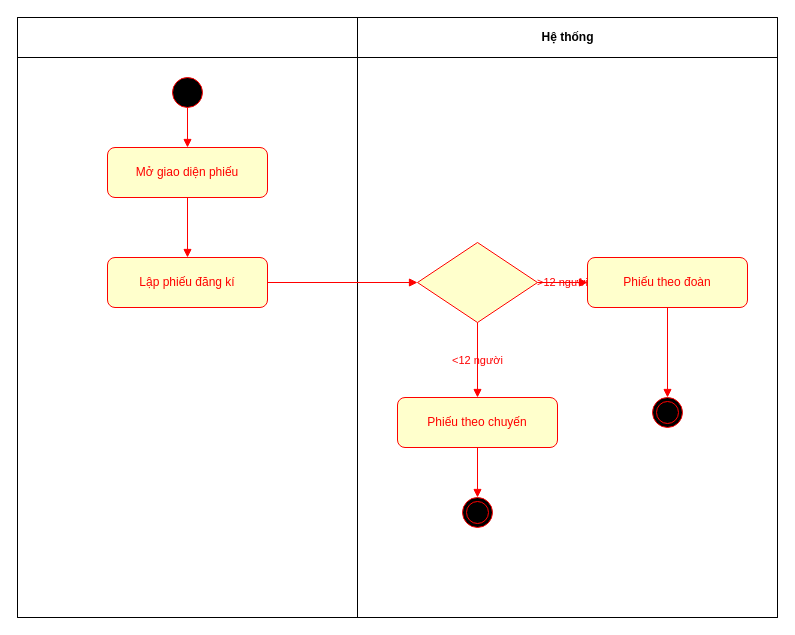
The diagram is 795 pixels wide and 635 high, and some of its shapes have lost their labels. Each missing label, with the box of its shape:
Quản lí: (16, 16, 358, 618)
Số người: (416, 242, 538, 322)
